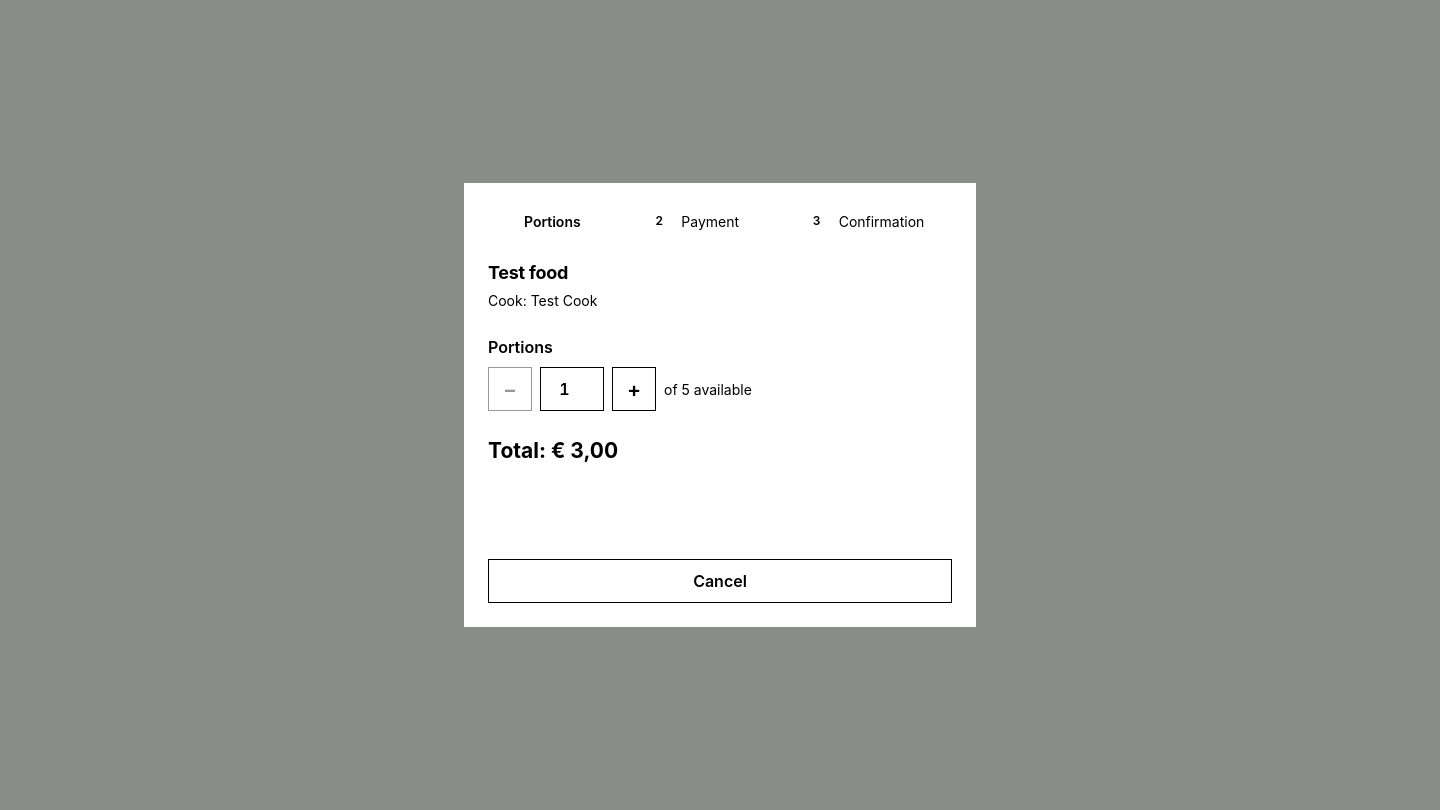
Test: ClaimFlow — live total › recomputes the total as quantity changes
Check: the text "Total: € 3,00" is shown, box [488,438,618,463]
Click the button named "Increase portions": (634, 389) [612,367,656,411]
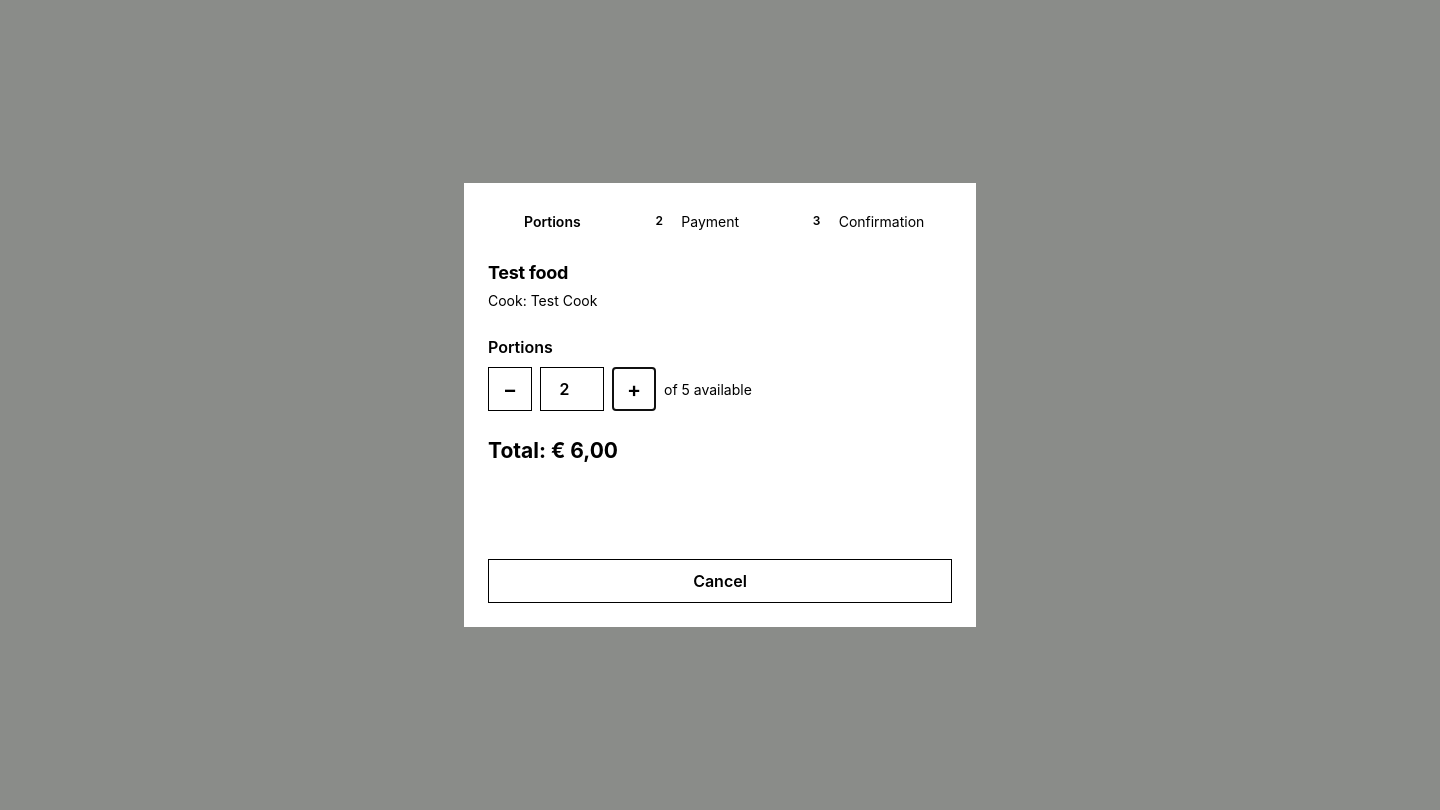
Check: the text "Total: € 6,00" is shown, box [488,438,618,463]
